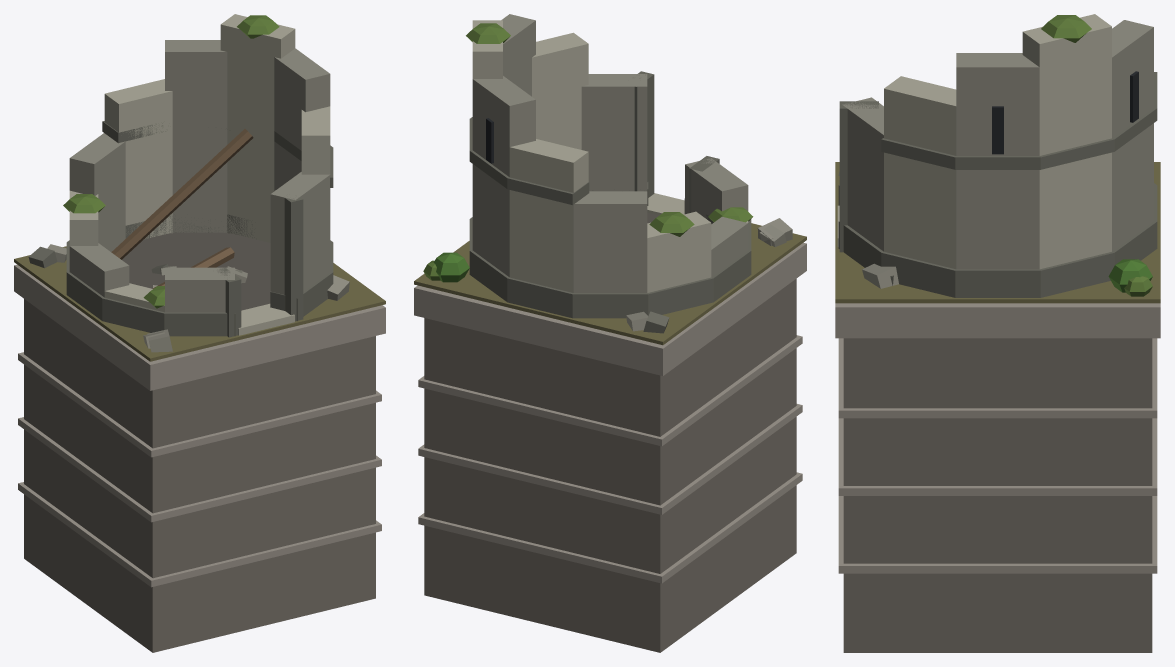
File: decor_tower_stump.glb
The picture shows the model from 3 angles, left to right: view 1: azimuth 30°, elevation 25°; view 2: azimuth 150°, elevation 25°; view 3: azimuth 270°, elevation 25°; orthographic projection. The views are drawn at different scales.
Visible parts, largest first — view 1: decor_tower_stump; view 2: decor_tower_stump; view 3: decor_tower_stump.
Part boxes in pixels (bbox=[...]): decor_tower_stump: bbox=[14, 14, 385, 652]; decor_tower_stump: bbox=[414, 14, 806, 652]; decor_tower_stump: bbox=[835, 14, 1160, 652].
Bounding box in the file's own units: 3.8 × 7.99 × 3.8.
